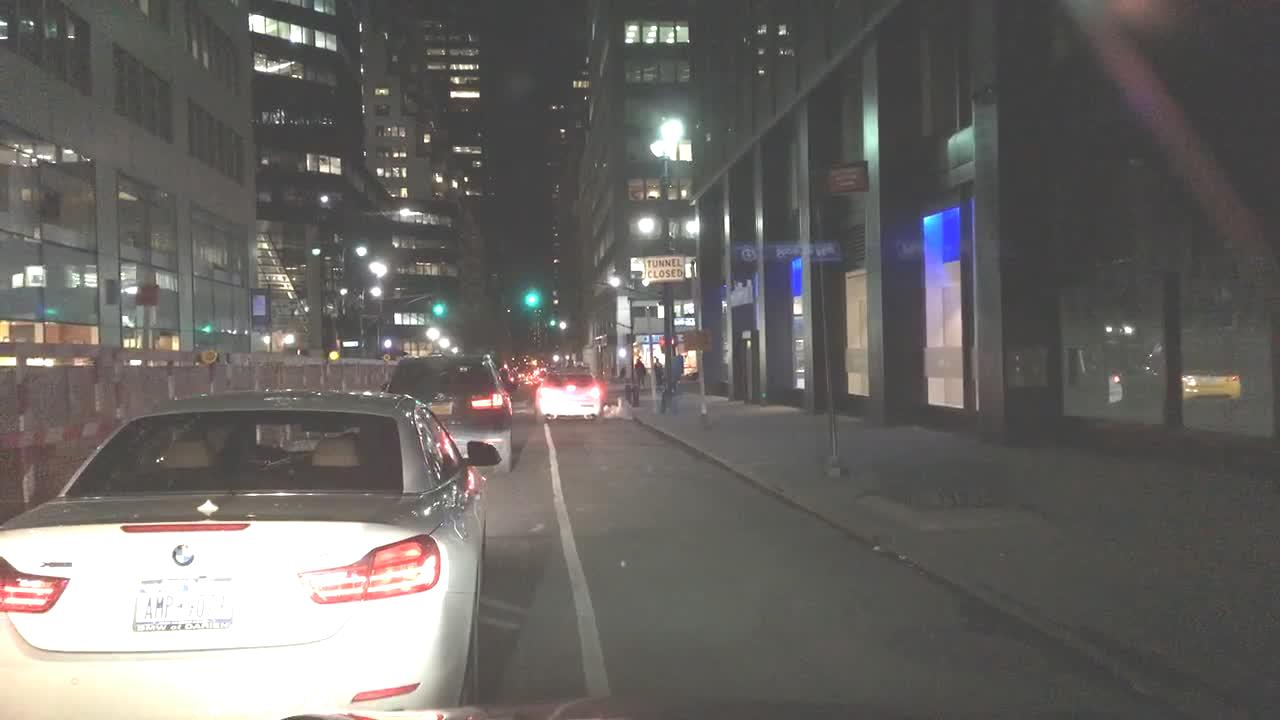bmw: (161, 535, 210, 573)
